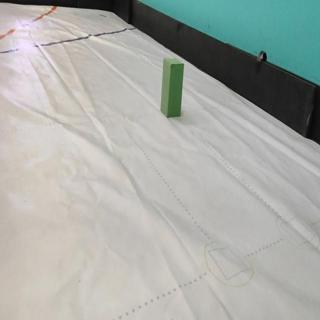greenbox: (161, 57, 183, 118)
